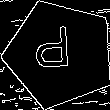P_S: (39, 28, 80, 80)
